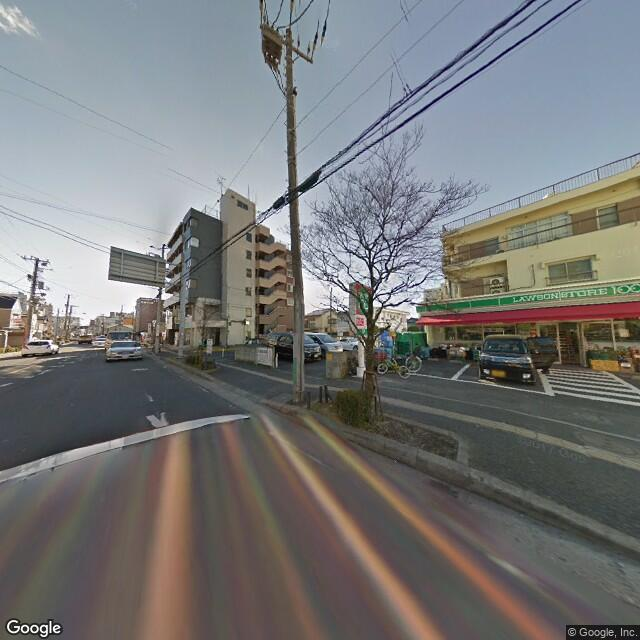lawson: (417, 275, 639, 322)
